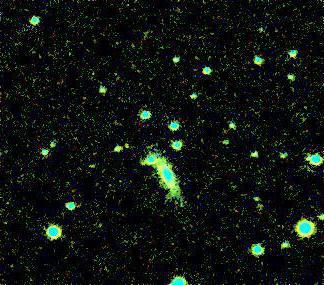star: (111, 129, 141, 159)
